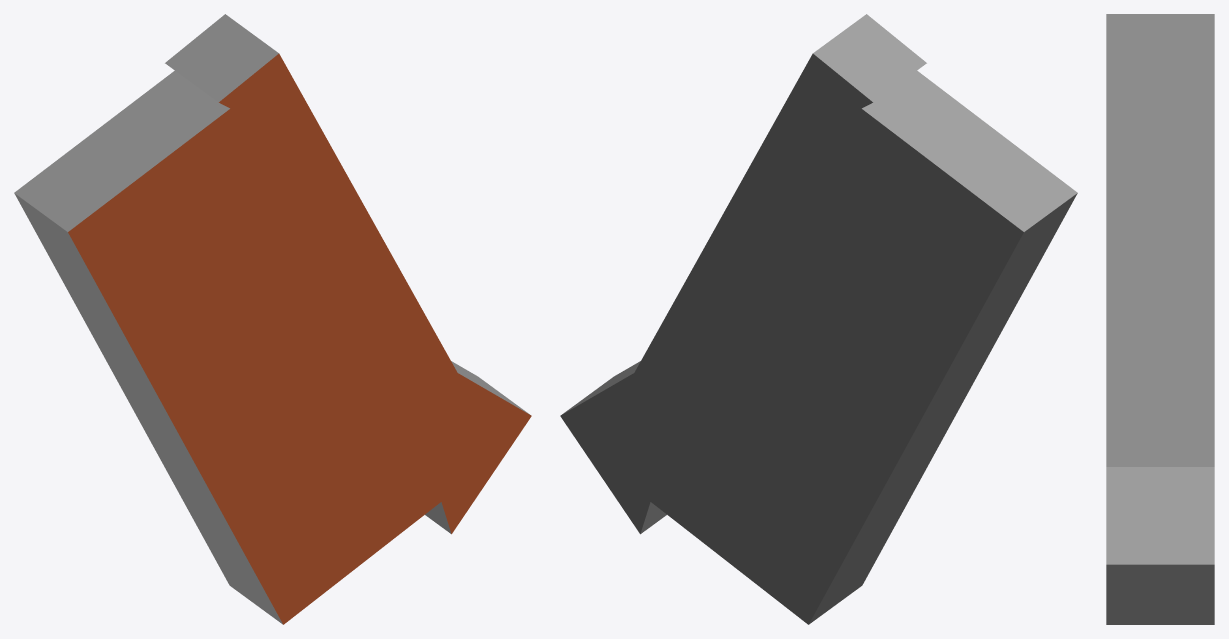
The model's file is construction_6751_assumed_A_Casa_h6m.obj.
The picture shows the model from 3 angles, left to right: view 1: azimuth 30°, elevation 25°; view 2: azimuth 150°, elevation 25°; view 3: azimuth 270°, elevation 25°; orthographic projection.
Parts seen in each view (by area): view 1: construction_6751_assumed_A_Casa; view 2: construction_6751_assumed_A_Casa; view 3: construction_6751_assumed_A_Casa.
Part boxes in pixels (x1,y1,x2,y2): construction_6751_assumed_A_Casa: (14,14,531,624); construction_6751_assumed_A_Casa: (560,14,1077,624); construction_6751_assumed_A_Casa: (1106,14,1214,624).
Size of the model in its own units: 29.86 by 35.22 by 6.
